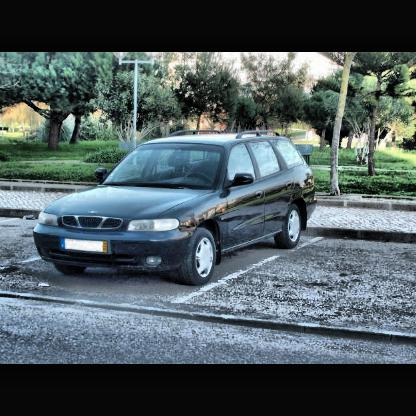Daewoo Nubira Wagon 2002: (34, 131, 321, 288)
